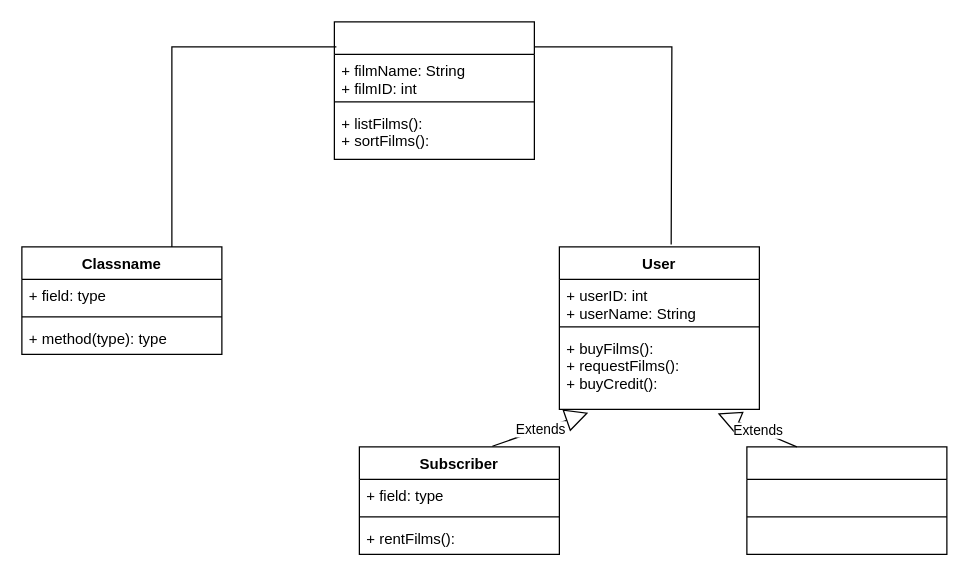
The diagram is 969 pixels wide and 580 high, and some of its shapes have lost their labels. The shapes that lost their labels are listed below. From the top down, each one's box as (x1, y1, x2, y2) in pixels, then its label:
(333, 21, 534, 159): App
(746, 446, 947, 554): Non-Subscriber
